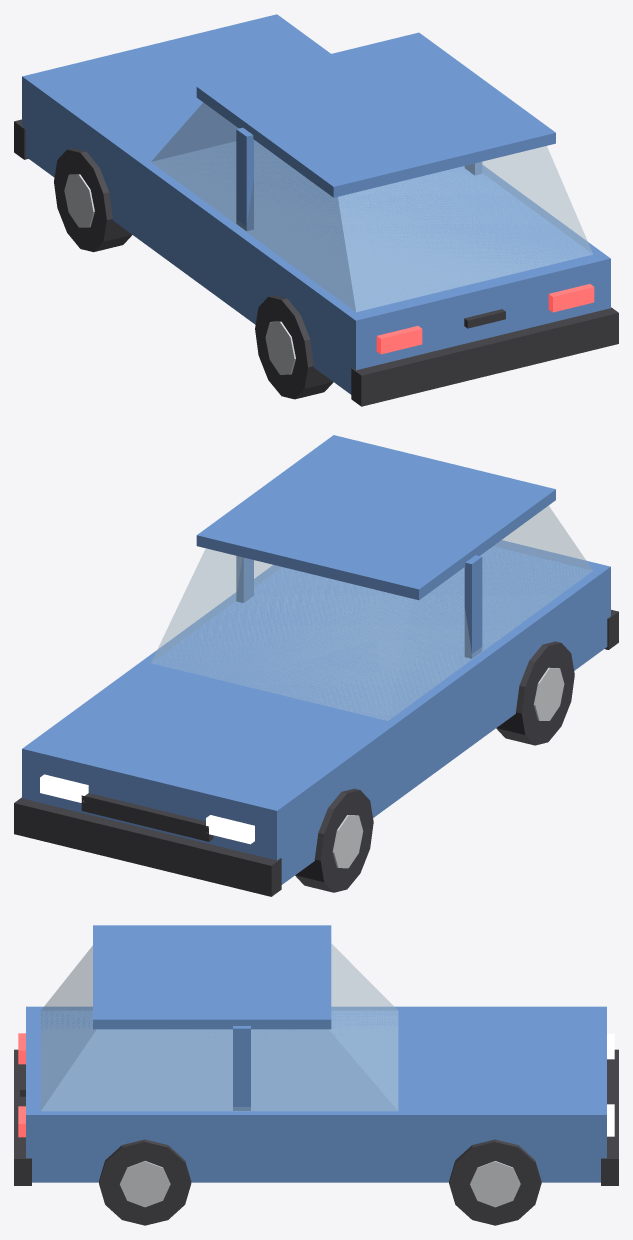
File: car_hatchback_blue.glb
3 views of the same model, one above another, from view 1: azimuth 30°, elevation 25°; view 2: azimuth 150°, elevation 25°; view 3: azimuth 270°, elevation 25° (orthographic). The views are drawn at different scales.
Parts seen in each view (by area): view 1: body, wheel_fl, wheel_rl; view 2: body, wheel_fl, wheel_rl; view 3: body, wheel_fr, wheel_rr.
Part boxes in pixels (<box>): body: <box>14,14,618,406</box>; wheel_fl: <box>54,148,132,252</box>; wheel_rl: <box>255,295,333,399</box>; body: <box>14,435,618,896</box>; wheel_fl: <box>295,788,373,892</box>; wheel_rl: <box>496,641,574,745</box>; body: <box>14,925,618,1185</box>; wheel_fr: <box>449,1139,541,1225</box>; wheel_rr: <box>99,1139,191,1225</box>.
Bounding box in the file's own units: 1.82 × 1.46 × 4.06.
